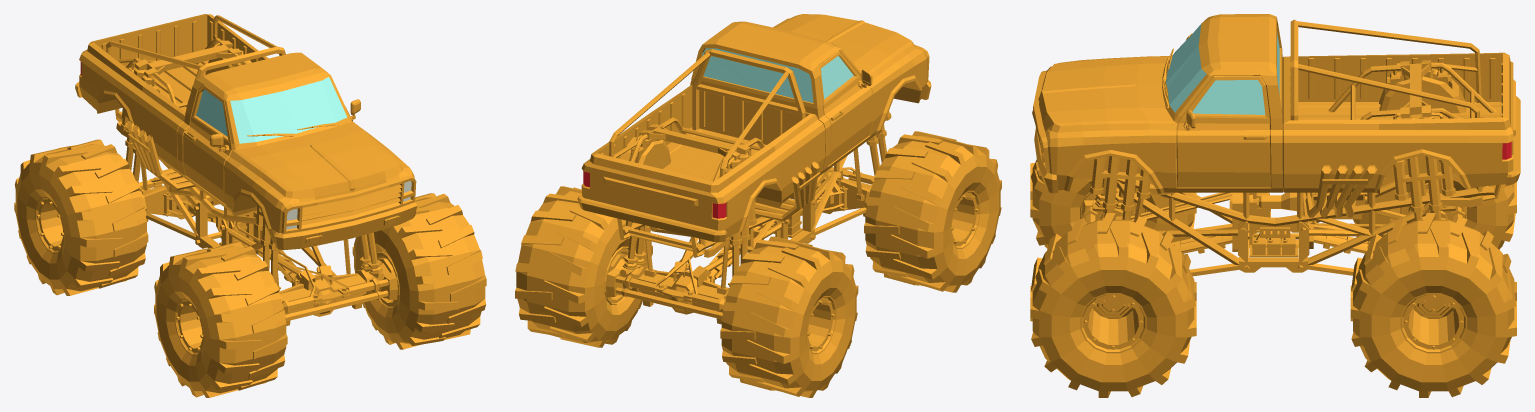
Rendered from SM_Car_MonsterTruck_Old.fbx.
3 views of the same model, side by side, from view 1: azimuth 30°, elevation 25°; view 2: azimuth 150°, elevation 25°; view 3: azimuth 270°, elevation 25° (orthographic). The views are drawn at different scales.
Parts seen in each view (by area): view 1: SM_Car_MonsterTruck_Old_Base, SM_Car_MonsterTruck_Old_Wheel_RB, SM_Car_MonsterTruck_Old_Wheel_FR, SM_Car_MonsterTruck_Old_Wheel_FL, SM_Car_MonsterTruck_Old_Door_R, SM_Car_MonsterTruck_Old_Wheel_Trunk; view 2: SM_Car_MonsterTruck_Old_Base, SM_Car_MonsterTruck_Old_Wheel_FR, SM_Car_MonsterTruck_Old_Wheel_RB, SM_Car_MonsterTruck_Old_Wheel_LB, SM_Car_MonsterTruck_Old_Wheel_Trunk, SM_Car_MonsterTruck_Old_Door_R; view 3: SM_Car_MonsterTruck_Old_Base, SM_Car_MonsterTruck_Old_Wheel_FL, SM_Car_MonsterTruck_Old_Wheel_LB, SM_Car_MonsterTruck_Old_Door_L, SM_Car_MonsterTruck_Old_Wheel_FR, SM_Car_MonsterTruck_Old_Wheel_RB, SM_Car_MonsterTruck_Old_Wheel_Trunk.
Boxes of the visible parts, x1,y1,x2,y2 form: SM_Car_MonsterTruck_Old_Base: [75, 14, 417, 325]; SM_Car_MonsterTruck_Old_Wheel_RB: [14, 139, 148, 295]; SM_Car_MonsterTruck_Old_Wheel_FR: [154, 241, 287, 397]; SM_Car_MonsterTruck_Old_Wheel_FL: [352, 193, 486, 349]; SM_Car_MonsterTruck_Old_Door_R: [183, 85, 232, 204]; SM_Car_MonsterTruck_Old_Wheel_Trunk: [91, 14, 207, 70]; SM_Car_MonsterTruck_Old_Base: [577, 14, 931, 324]; SM_Car_MonsterTruck_Old_Wheel_FR: [864, 131, 1001, 292]; SM_Car_MonsterTruck_Old_Wheel_RB: [720, 236, 858, 397]; SM_Car_MonsterTruck_Old_Wheel_LB: [515, 186, 652, 347]; SM_Car_MonsterTruck_Old_Wheel_Trunk: [592, 153, 713, 228]; SM_Car_MonsterTruck_Old_Door_R: [818, 51, 872, 165]; SM_Car_MonsterTruck_Old_Base: [1032, 14, 1520, 276]; SM_Car_MonsterTruck_Old_Wheel_FL: [1030, 213, 1196, 397]; SM_Car_MonsterTruck_Old_Wheel_LB: [1350, 213, 1516, 397]; SM_Car_MonsterTruck_Old_Door_L: [1176, 75, 1270, 187]; SM_Car_MonsterTruck_Old_Wheel_FR: [1030, 159, 1196, 248]; SM_Car_MonsterTruck_Old_Wheel_RB: [1353, 173, 1516, 250]; SM_Car_MonsterTruck_Old_Wheel_Trunk: [1501, 53, 1515, 137].
Size of the model in its own units: 3.99 by 3.48 by 5.41.
